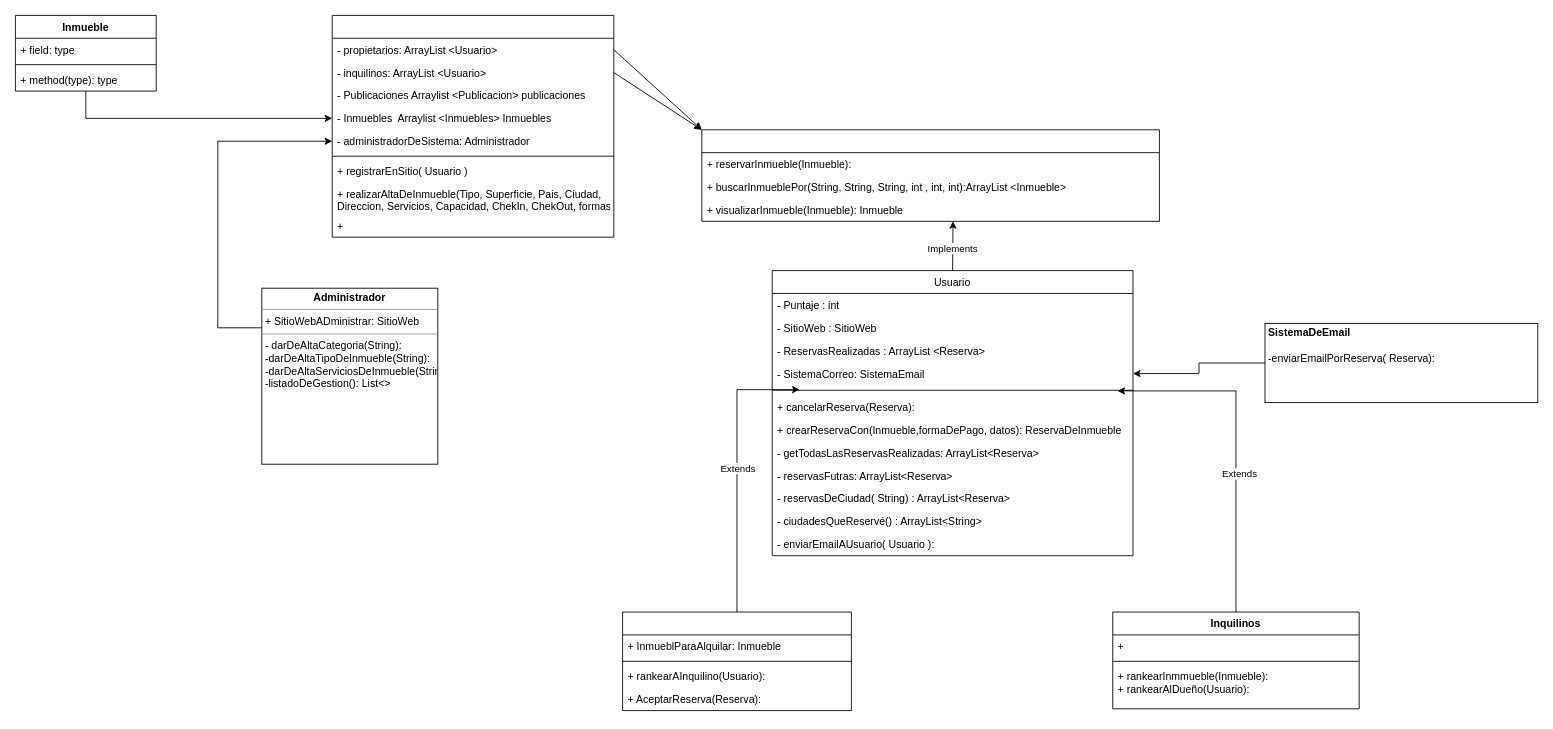
Image size: 1553x729. Some labels were removed from this diagram. Each missing label, with the box of its shape:
Inteface Usuario: (701, 129, 1159, 221)
Propietarios: (622, 611, 851, 711)
SitioWeb: (331, 15, 614, 237)
